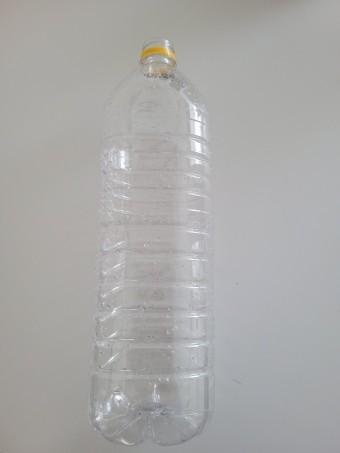BIODEGRADABLE: (78, 29, 224, 453)
